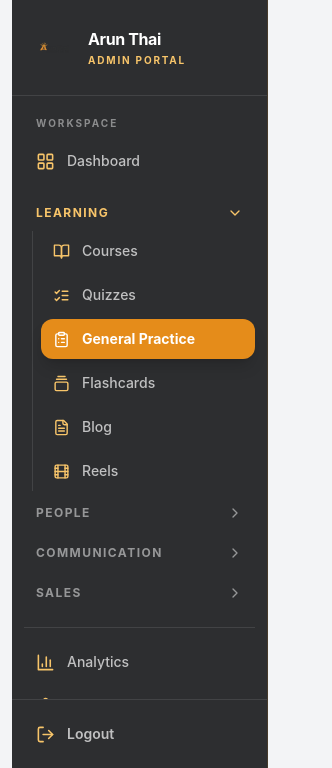
keeps Course Quizzes separate and highlights General Practice on details routes
Click the button "Quizzes": x=148, y=295 [41, 275, 255, 315]
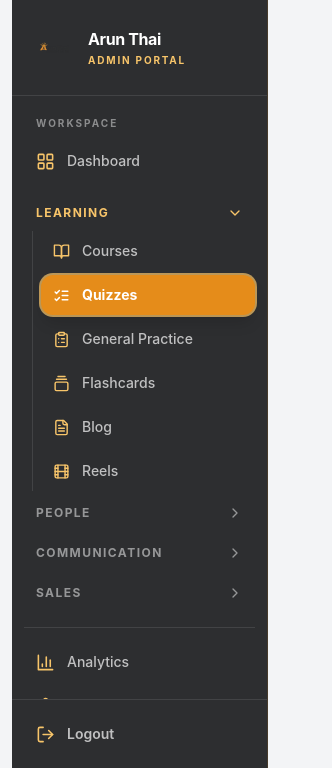
Click the button "General Practice": x=148, y=339 [41, 319, 255, 359]
(page scrolled)
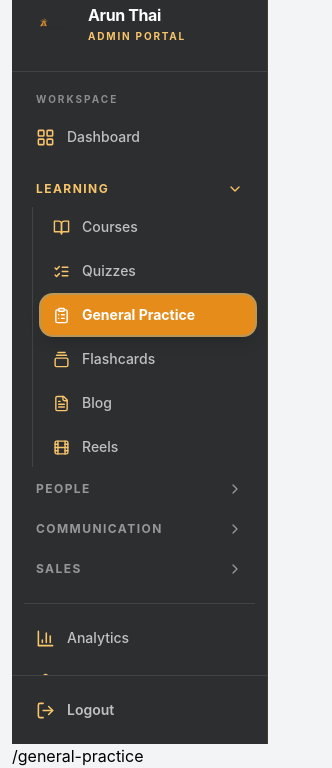
Check: the text with test id "path" reads "/general-practice", box [12, 746, 144, 766]
